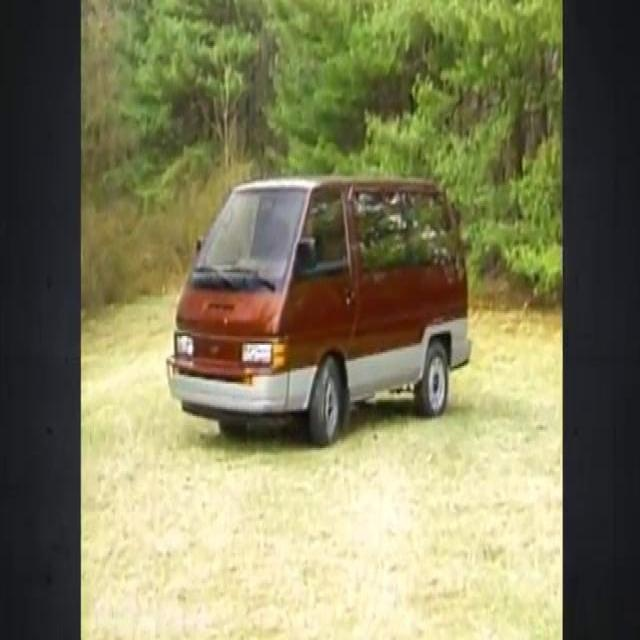Van: (166, 170, 473, 442)
